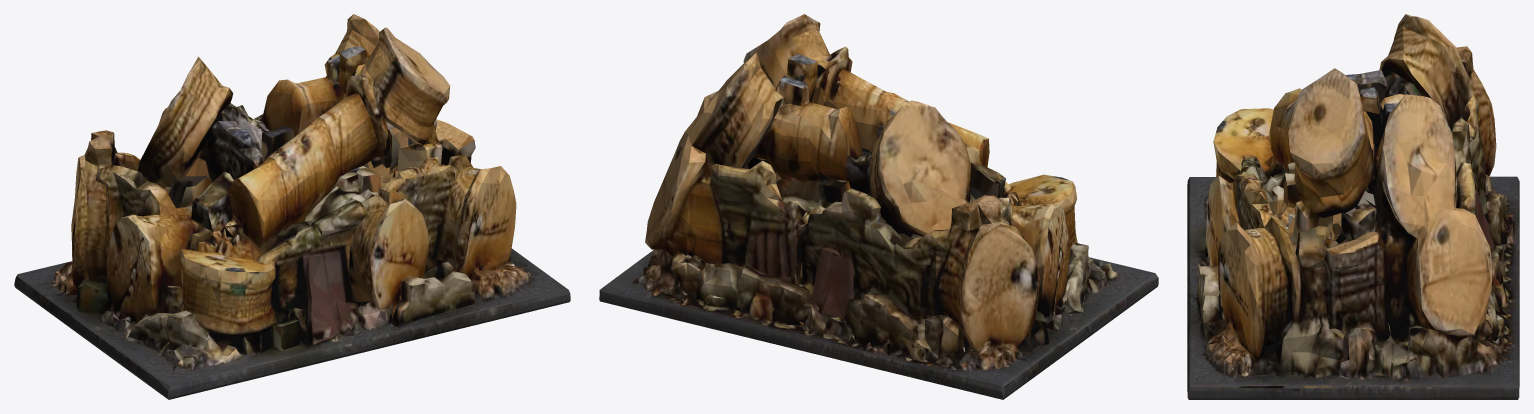
File: temple-rubble-drums.glb
3 renders of one model, left to right at view 1: azimuth 30°, elevation 25°; view 2: azimuth 150°, elevation 25°; view 3: azimuth 270°, elevation 25°, orthographic. The views are drawn at different scales.
Parts seen in each view (by area): view 1: tmp07xoddel.ply; view 2: tmp07xoddel.ply; view 3: tmp07xoddel.ply.
Boxes of the visible parts, x1,y1,x2,y2 form: tmp07xoddel.ply: [14, 14, 570, 399]; tmp07xoddel.ply: [599, 14, 1158, 399]; tmp07xoddel.ply: [1187, 14, 1519, 399].
Size of the model in its own units: 3 by 1.8 by 2.
1 material, 1 textured.
